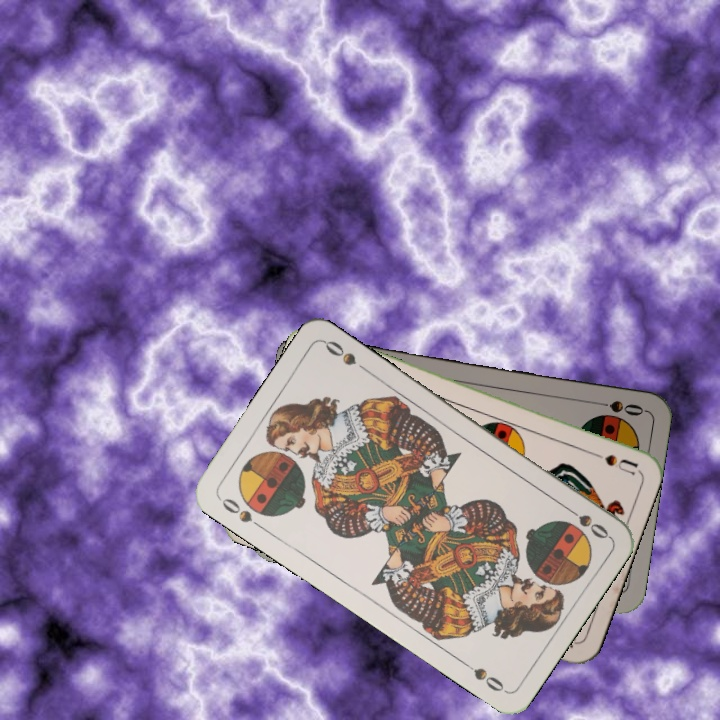SO: (560, 501, 612, 542), (215, 494, 267, 533), (587, 396, 646, 419)
SU: (581, 445, 640, 478)
